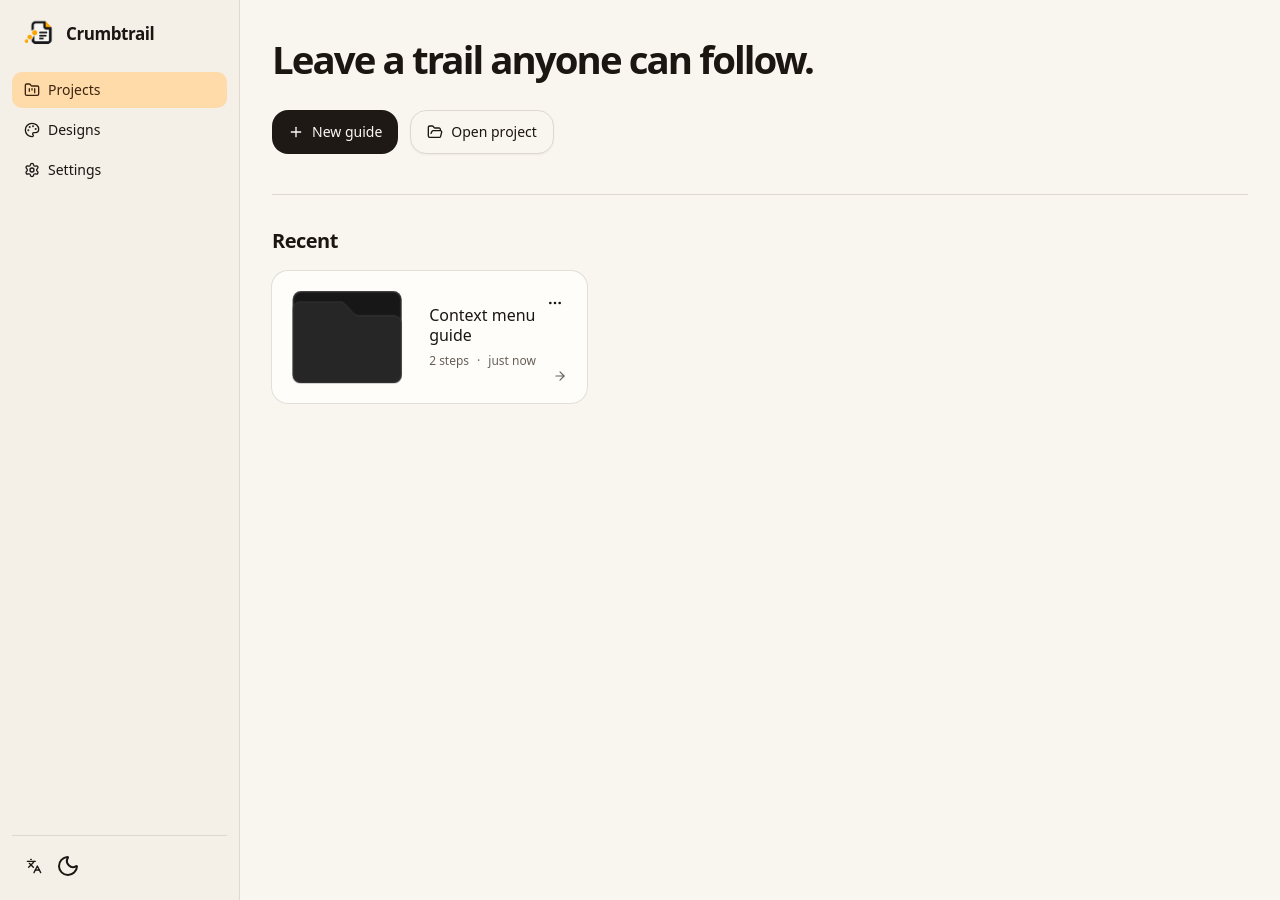
Crumbtrail experience › opens the project actions where the card is right-clicked
The width and height of the screenshot is (1280, 900).
Expected: the text "Context menu guide" is shown, [429, 305, 539, 345]
Right-click the button "Context menu guide 2 steps · just now" at (429, 337), box [272, 271, 587, 403]
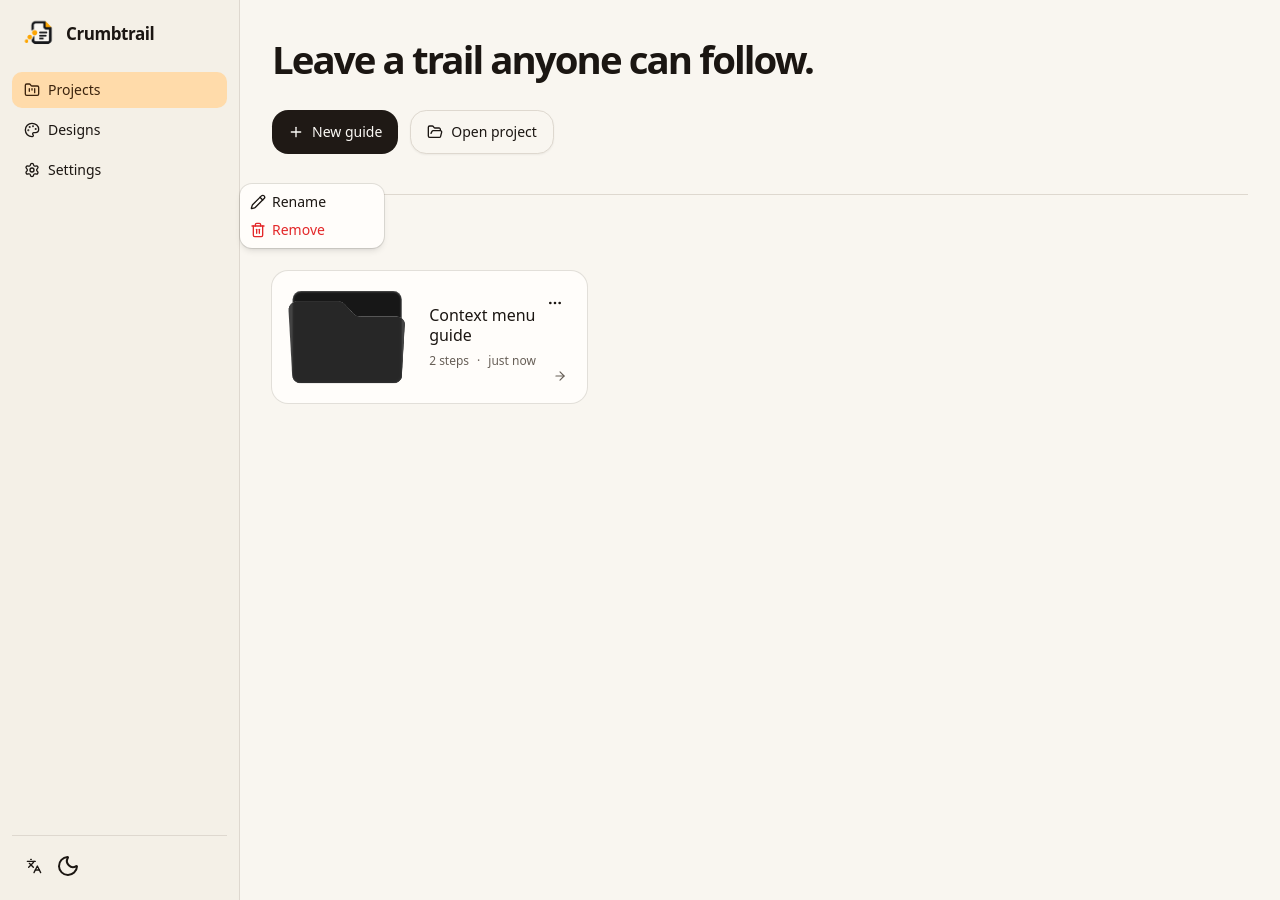
Now the menu item "Rename" is shown, box [250, 192, 326, 211]
Now the menu item "Remove" is shown, box [250, 220, 325, 239]
